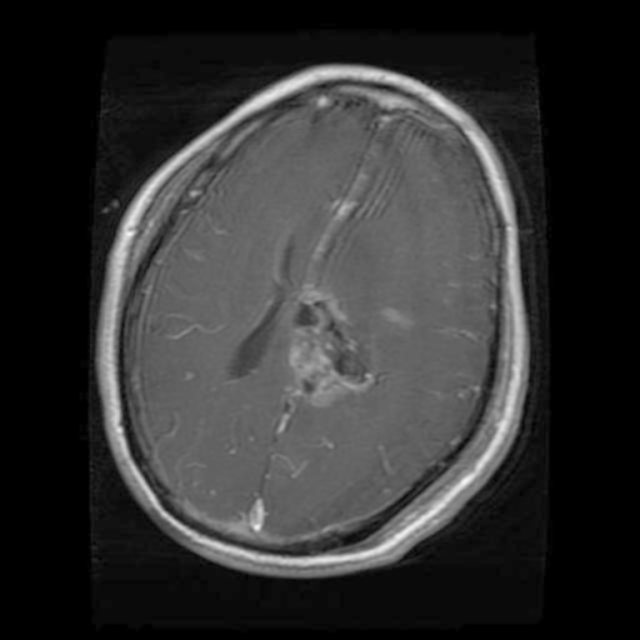pituitary tumor: (294, 290, 368, 401)
